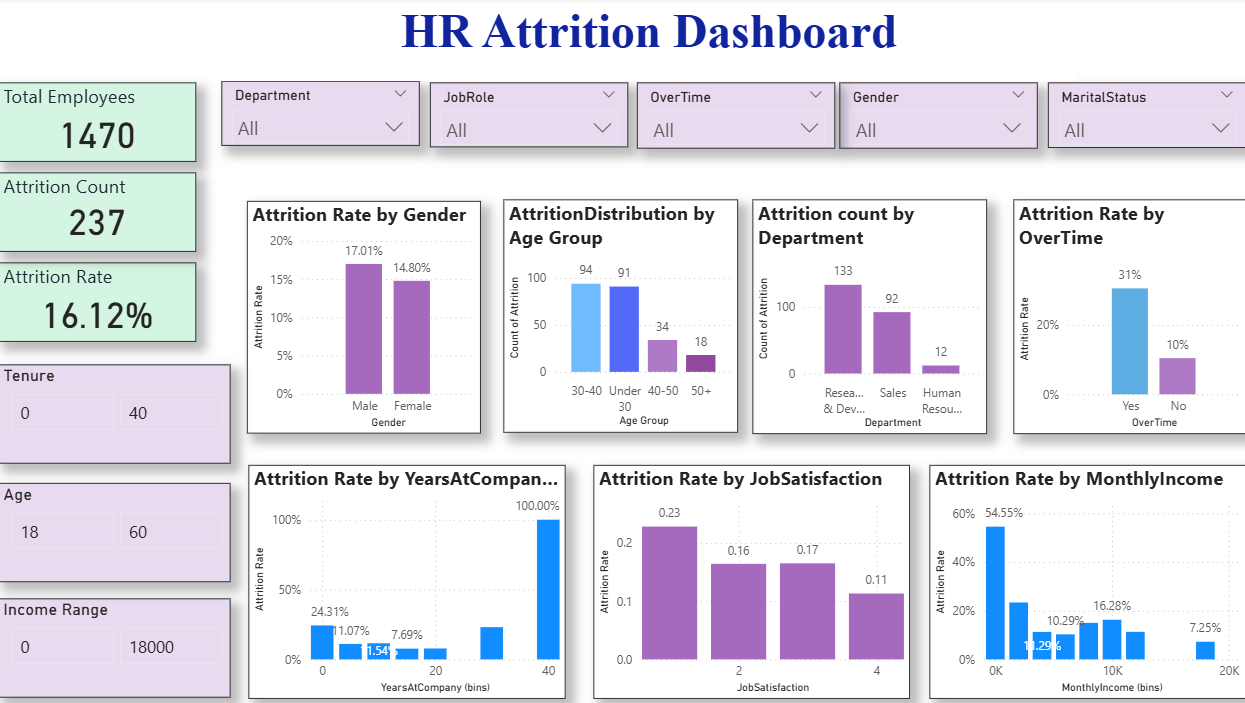

The page's visual inventory and layout, read from the dashboard file:
{"tool":"powerbi","page":{"name":"HR Attrition dashboard","canvas":[1280,720],"ordinal":0},"visuals":[{"type":"columnChart","title":" Attrition count by Department","fields":{"Category":["WA_Fn-UseC_-HR-Employee-Attrition.Department"],"Y":["CountNonNull(WA_Fn-UseC_-HR-Employee-Attrition.Attrition)"]},"box":[761.7,205,236.7,236.7],"z":0},{"type":"clusteredColumnChart","title":"Attrition Rate by Gender","fields":{"Category":["WA_Fn-UseC_-HR-Employee-Attrition.Gender"],"Y":["WA_Fn-UseC_-HR-Employee-Attrition.Attrition Rate"]},"box":[250.8,205.7,236.3,234.7],"z":1000},{"type":"clusteredColumnChart","title":"AttritionDistribution by Age Group","fields":{"Category":["WA_Fn-UseC_-HR-Employee-Attrition.Age Group"],"Y":["CountNonNull(WA_Fn-UseC_-HR-Employee-Attrition.Attrition)"]},"box":[510,205,236.7,235],"z":2000},{"type":"card","title":"Total Employees","fields":{"Values":["CountNonNull(WA_Fn-UseC_-HR-Employee-Attrition.EmployeeCount)"]},"box":[0,86.3,199.9,80.3],"z":3000},{"type":"card","title":"Attrition Rate","fields":{"Values":["WA_Fn-UseC_-HR-Employee-Attrition.Attrition Rate"]},"box":[0,268,199.9,80.3],"z":4000},{"type":"slicer","fields":{"Values":["WA_Fn-UseC_-HR-Employee-Attrition.Department"]},"box":[225,85,200,65],"z":5000},{"type":"slicer","fields":{"Values":["WA_Fn-UseC_-HR-Employee-Attrition.JobRole"]},"box":[436.7,86.7,200,65],"z":6000},{"type":"slicer","fields":{"Values":["WA_Fn-UseC_-HR-Employee-Attrition.Gender"]},"box":[850,86.7,200,66.7],"z":7000},{"type":"slicer","fields":{"Values":["WA_Fn-UseC_-HR-Employee-Attrition.MaritalStatus"]},"box":[1060.2,86.9,200.3,66.1],"z":8000},{"type":"slicer","fields":{"Values":["WA_Fn-UseC_-HR-Employee-Attrition.OverTime"]},"box":[645,86.7,200,66.7],"z":9000},{"type":"clusteredColumnChart","title":"Attrition Rate by MonthlyIncome","fields":{"Y":["WA_Fn-UseC_-HR-Employee-Attrition.Attrition Rate"],"Category":["WA_Fn-UseC_-HR-Employee-Attrition.MonthlyIncome (bins)"]},"box":[940.3,472.4,319.5,236.2],"z":10000},{"type":"clusteredColumnChart","title":"Attrition Rate by JobSatisfaction","fields":{"Category":["WA_Fn-UseC_-HR-Employee-Attrition.JobSatisfaction"],"Y":["WA_Fn-UseC_-HR-Employee-Attrition.Attrition Rate"]},"box":[601.1,472.4,319.5,236.2],"z":11000},{"type":"clusteredColumnChart","fields":{"Category":["WA_Fn-UseC_-HR-Employee-Attrition.YearsAtCompany (bins)"],"Y":["WA_Fn-UseC_-HR-Employee-Attrition.Attrition Rate"]},"box":[253.2,472.4,320,236.2],"z":12000},{"type":"kpi","title":"Attrition Count ","fields":{"TrendLine":["WA_Fn-UseC_-HR-Employee-Attrition.Attrition"],"Indicator":["CountNonNull(WA_Fn-UseC_-HR-Employee-Attrition.Attrition)"]},"box":[0,177.2,199.9,80.3],"z":13000},{"type":"columnChart","title":"Attrition Rate by OverTime","fields":{"Category":["WA_Fn-UseC_-HR-Employee-Attrition.OverTime"],"Y":["WA_Fn-UseC_-HR-Employee-Attrition.Attrition Rate"]},"box":[1025,205,235,236.7],"z":14000},{"type":"textbox","box":[225,1.7,863.3,83.3],"z":15000},{"type":"slicer","title":"Income Range","fields":{"Values":["WA_Fn-UseC_-HR-Employee-Attrition.MonthlyIncome (bins)"]},"box":[0,607.2,234.7,99.9],"z":16000},{"type":"slicer","title":"Tenure","fields":{"Values":["WA_Fn-UseC_-HR-Employee-Attrition.YearsAtCompany"]},"box":[0,371,234.7,99.9],"z":17000},{"type":"slicer","title":"Age","fields":{"Values":["WA_Fn-UseC_-HR-Employee-Attrition.Age"]},"box":[0,490.6,234.7,99.9],"z":18000}]}

Visuals, with their boxes in screenshot pixels (x1, y1, x2, y2), scaled from the page's 1280x720 canvas onto the 1245x703 screenshot:
" Attrition count by Department" columnChart: {"x1": 741, "y1": 200, "x2": 971, "y2": 431}
"Attrition Rate by Gender" clusteredColumnChart: {"x1": 244, "y1": 201, "x2": 474, "y2": 430}
"AttritionDistribution by Age Group" clusteredColumnChart: {"x1": 496, "y1": 200, "x2": 726, "y2": 430}
"Total Employees" card: {"x1": 0, "y1": 84, "x2": 194, "y2": 163}
"Attrition Rate" card: {"x1": 0, "y1": 262, "x2": 194, "y2": 340}
slicer - WA_Fn-UseC_-HR-Employee-Attrition.Department: {"x1": 219, "y1": 83, "x2": 413, "y2": 146}
slicer - WA_Fn-UseC_-HR-Employee-Attrition.JobRole: {"x1": 425, "y1": 85, "x2": 619, "y2": 148}
slicer - WA_Fn-UseC_-HR-Employee-Attrition.Gender: {"x1": 827, "y1": 85, "x2": 1021, "y2": 150}
slicer - WA_Fn-UseC_-HR-Employee-Attrition.MaritalStatus: {"x1": 1031, "y1": 85, "x2": 1226, "y2": 149}
slicer - WA_Fn-UseC_-HR-Employee-Attrition.OverTime: {"x1": 627, "y1": 85, "x2": 822, "y2": 150}
"Attrition Rate by MonthlyIncome" clusteredColumnChart: {"x1": 915, "y1": 461, "x2": 1225, "y2": 692}
"Attrition Rate by JobSatisfaction" clusteredColumnChart: {"x1": 585, "y1": 461, "x2": 895, "y2": 692}
clusteredColumnChart - WA_Fn-UseC_-HR-Employee-Attrition.YearsAtCompany (bins) x WA_Fn-UseC_-HR-Employee-Attrition.Attrition Rate: {"x1": 246, "y1": 461, "x2": 558, "y2": 692}
"Attrition Count " kpi: {"x1": 0, "y1": 173, "x2": 194, "y2": 251}
"Attrition Rate by OverTime" columnChart: {"x1": 997, "y1": 200, "x2": 1226, "y2": 431}
textbox: {"x1": 219, "y1": 2, "x2": 1059, "y2": 83}
"Income Range" slicer: {"x1": 0, "y1": 593, "x2": 228, "y2": 690}
"Tenure" slicer: {"x1": 0, "y1": 362, "x2": 228, "y2": 460}
"Age" slicer: {"x1": 0, "y1": 479, "x2": 228, "y2": 577}
